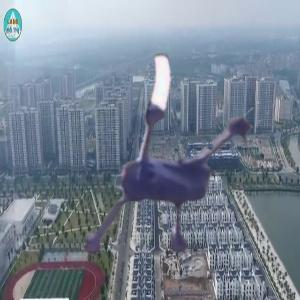drone: (41, 28, 297, 284)
